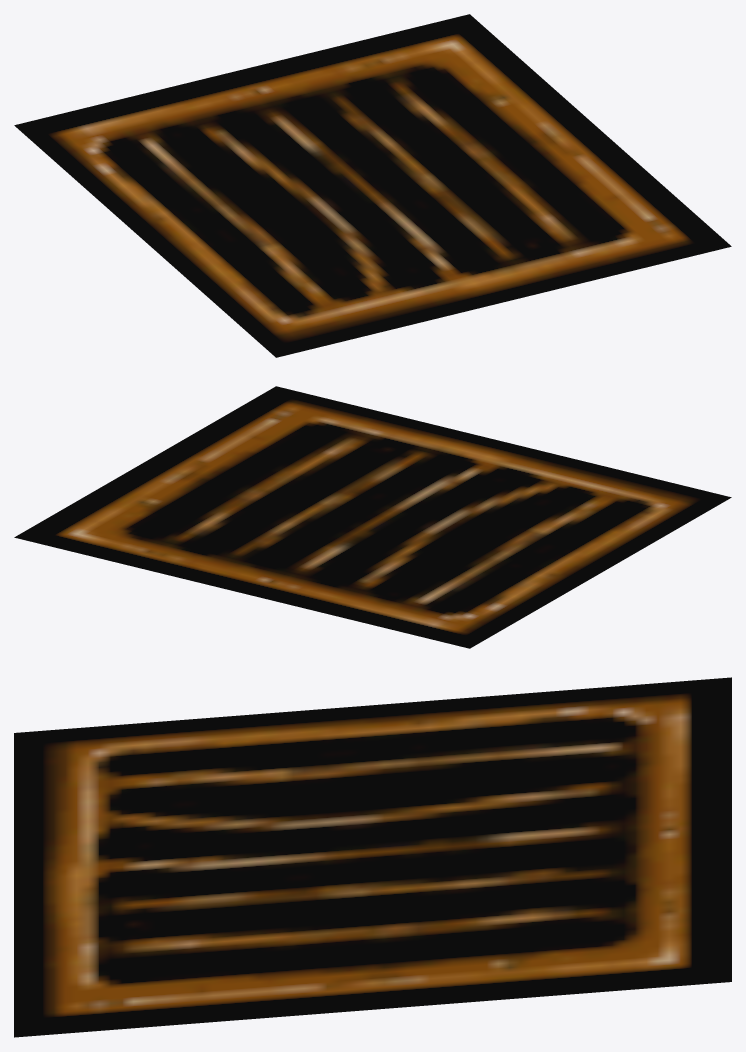
Rendered from Kanaldeckel_2597.glb.
The picture shows the model from 3 angles, top to bottom: view 1: azimuth 30°, elevation 25°; view 2: azimuth 150°, elevation 25°; view 3: azimuth 270°, elevation 25°; orthographic projection. The views are drawn at different scales.
Visible parts, largest first — view 1: pPlaneShape1; view 2: pPlaneShape1; view 3: pPlaneShape1.
Boxes of the visible parts, x1,y1,x2,y2 form: pPlaneShape1: (14, 14, 731, 357); pPlaneShape1: (14, 386, 731, 648); pPlaneShape1: (14, 677, 731, 1037).
Size of the model in its own units: 0.117 by 0.00996 by 0.1166.
Materials: 1 (1 with a texture image).
